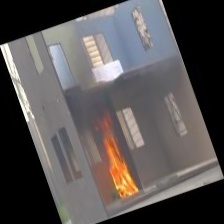fire: (84, 107, 148, 202)
